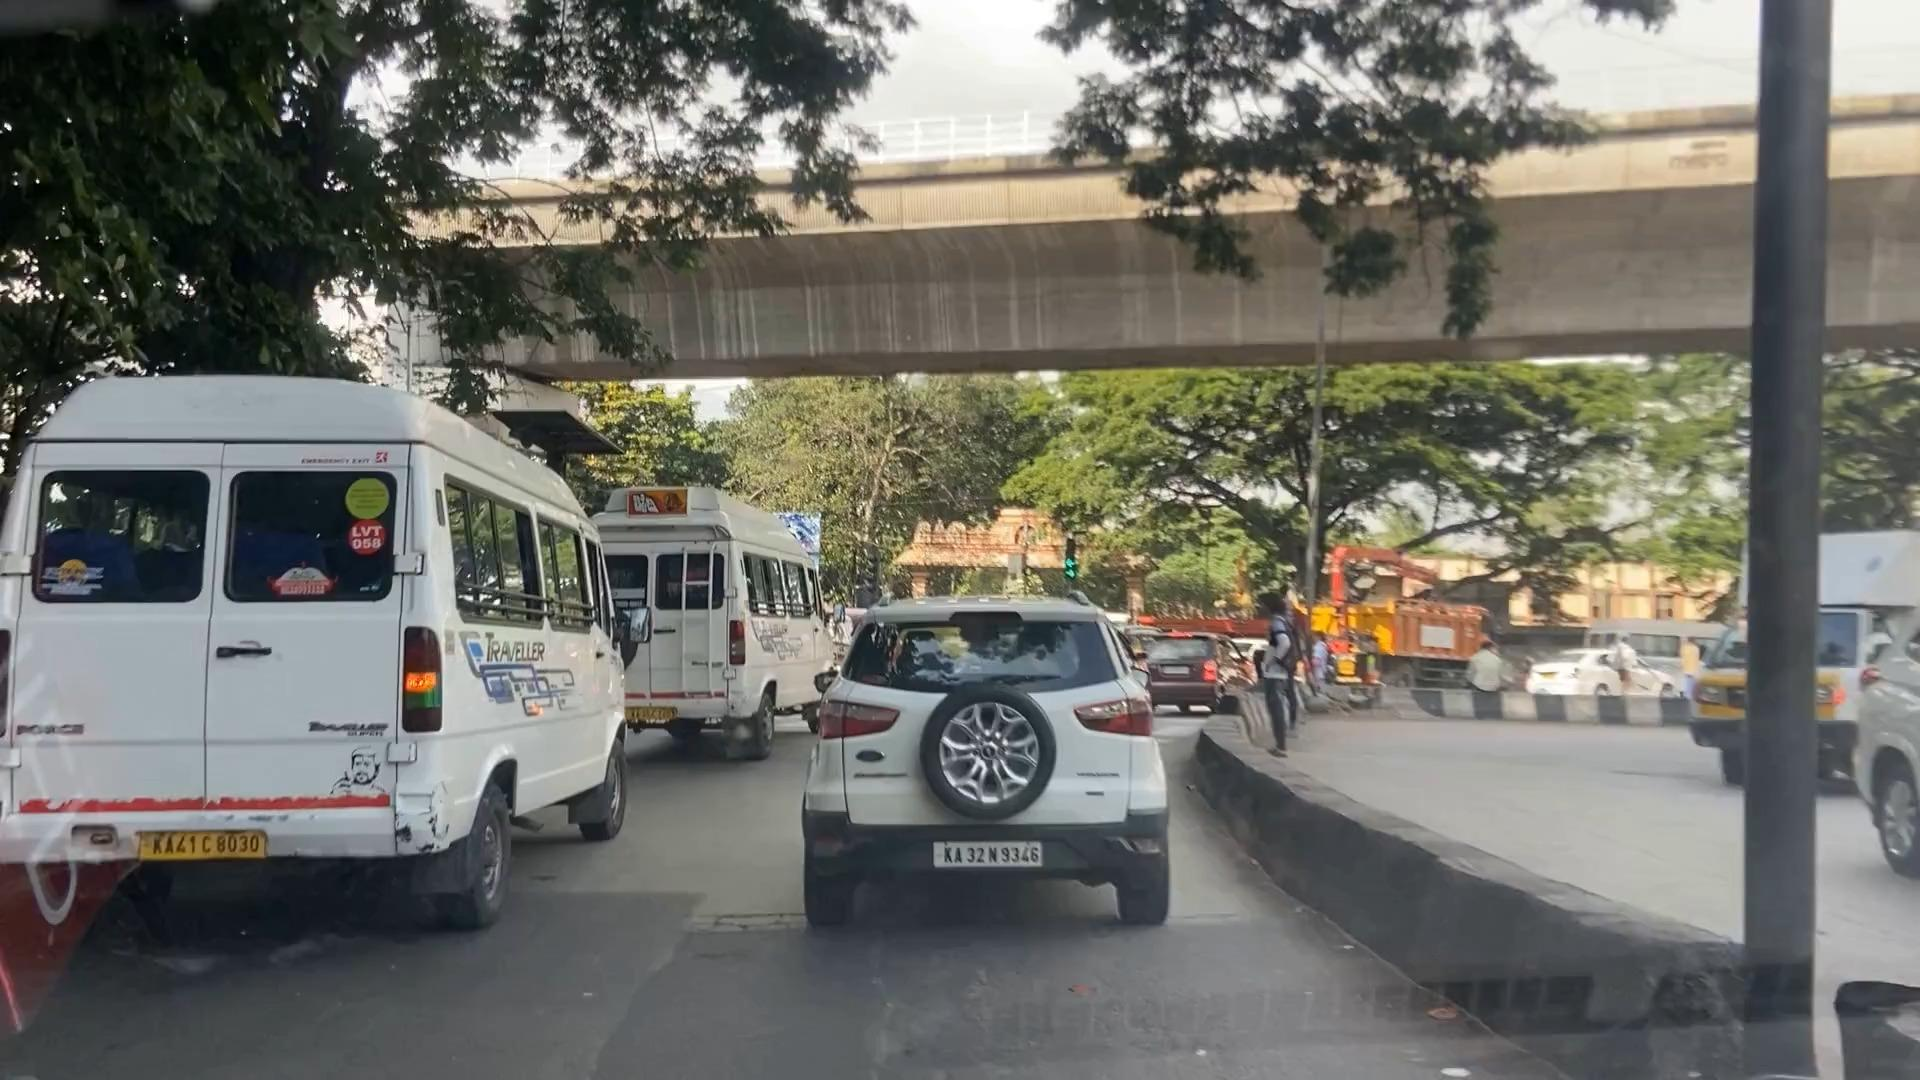HMV: (44, 398, 620, 931), (633, 502, 811, 770)
LMV: (814, 616, 1151, 918)
